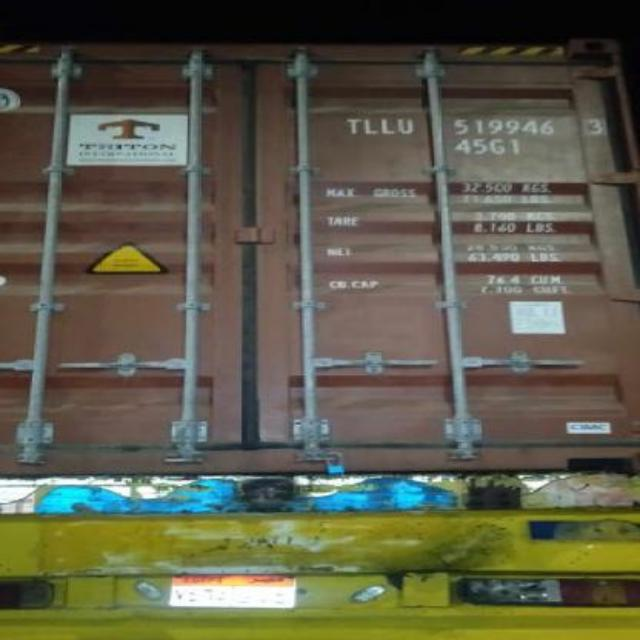1: (470, 113, 486, 137)
3: (582, 115, 604, 136)
4: (520, 109, 536, 139)
5: (450, 113, 470, 137)
6: (538, 111, 558, 137)
9: (500, 112, 520, 138), (484, 113, 502, 137)
L: (378, 112, 398, 138), (362, 114, 380, 140)
T: (344, 110, 362, 138)
U: (396, 114, 420, 138)
